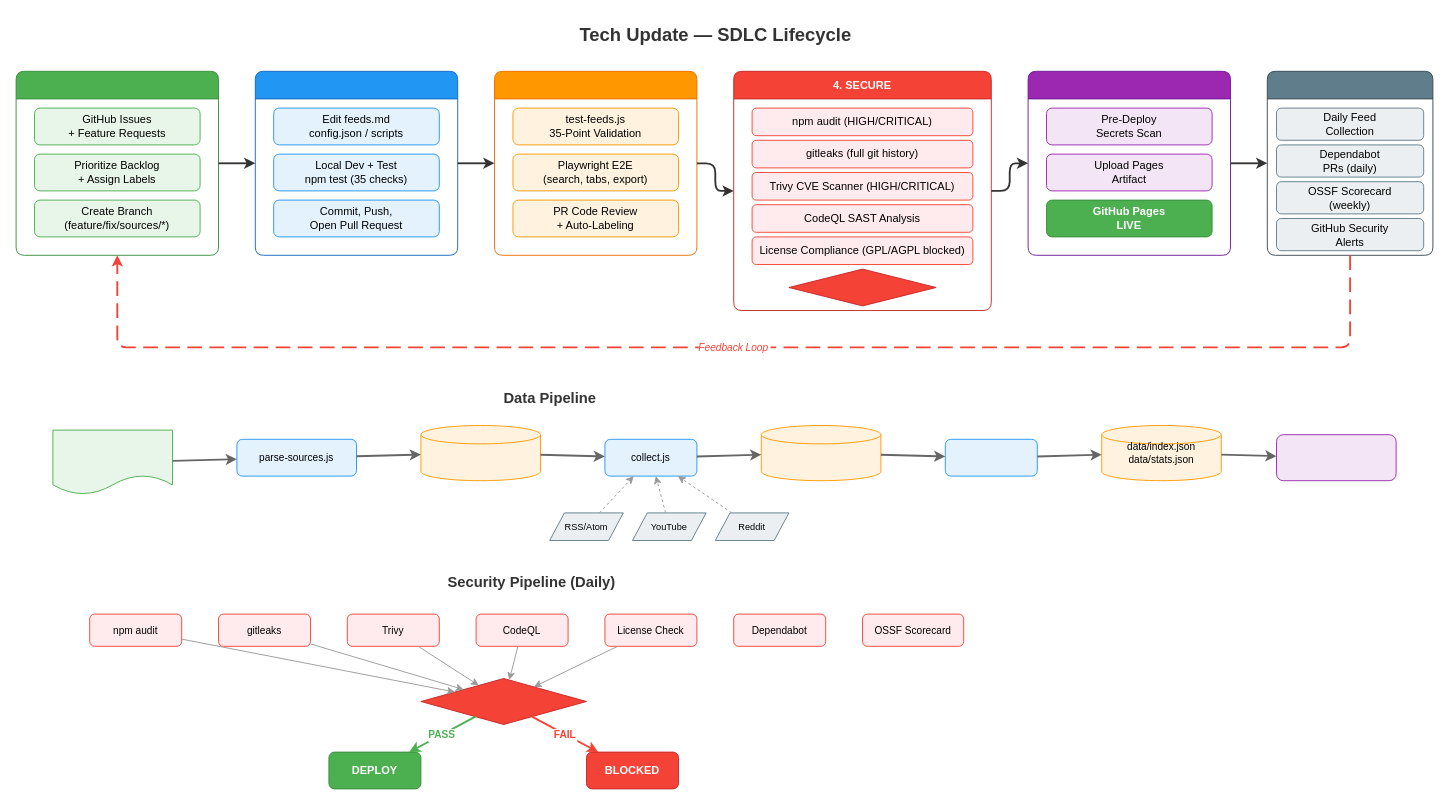
Some shapes in this 1449 by 805 pixel diagram are drawn without their labels. Each missing label, with the box of its shape:
1. PLAN: (15, 70, 218, 255)
2. DEVELOP: (254, 70, 458, 255)
3. TEST: (494, 70, 697, 255)
5. DEPLOY: (1027, 70, 1230, 255)
6. MONITOR: (1266, 70, 1433, 255)
Browser (Alpine.js SPA): (1276, 434, 1396, 481)
build.js: (944, 438, 1037, 476)
data/news.json (1500+ items): (760, 425, 881, 481)
data/sources.json (305 sources): (420, 425, 540, 481)
feeds.md (single source of truth): (52, 429, 172, 494)
SECURITY GATE: (420, 678, 586, 724)
SECURITY GATE ALL MUST PASS: (788, 268, 936, 306)
